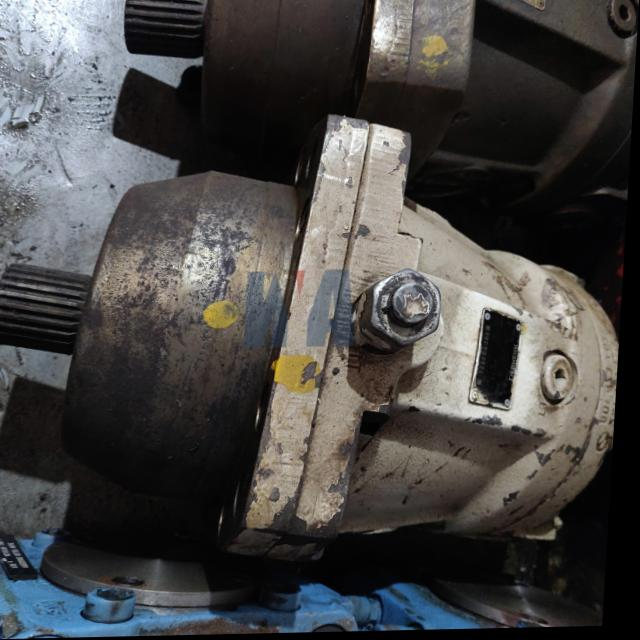Regular bolt: (362, 271, 450, 352)
